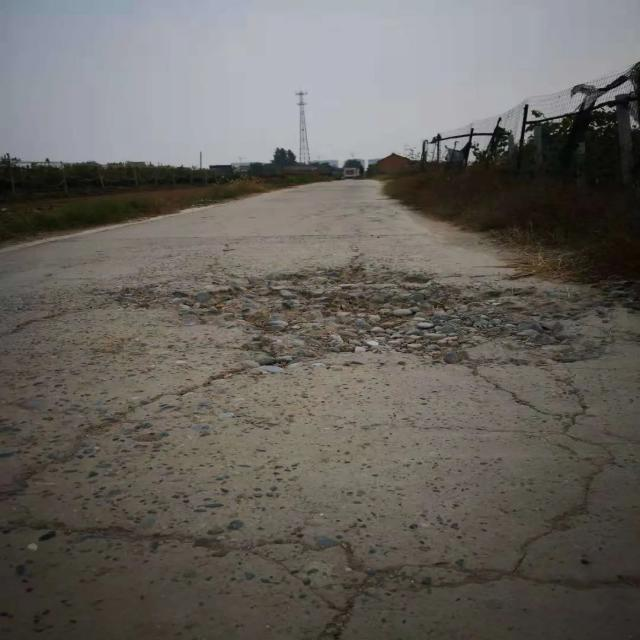Buraco: (79, 260, 615, 372)
